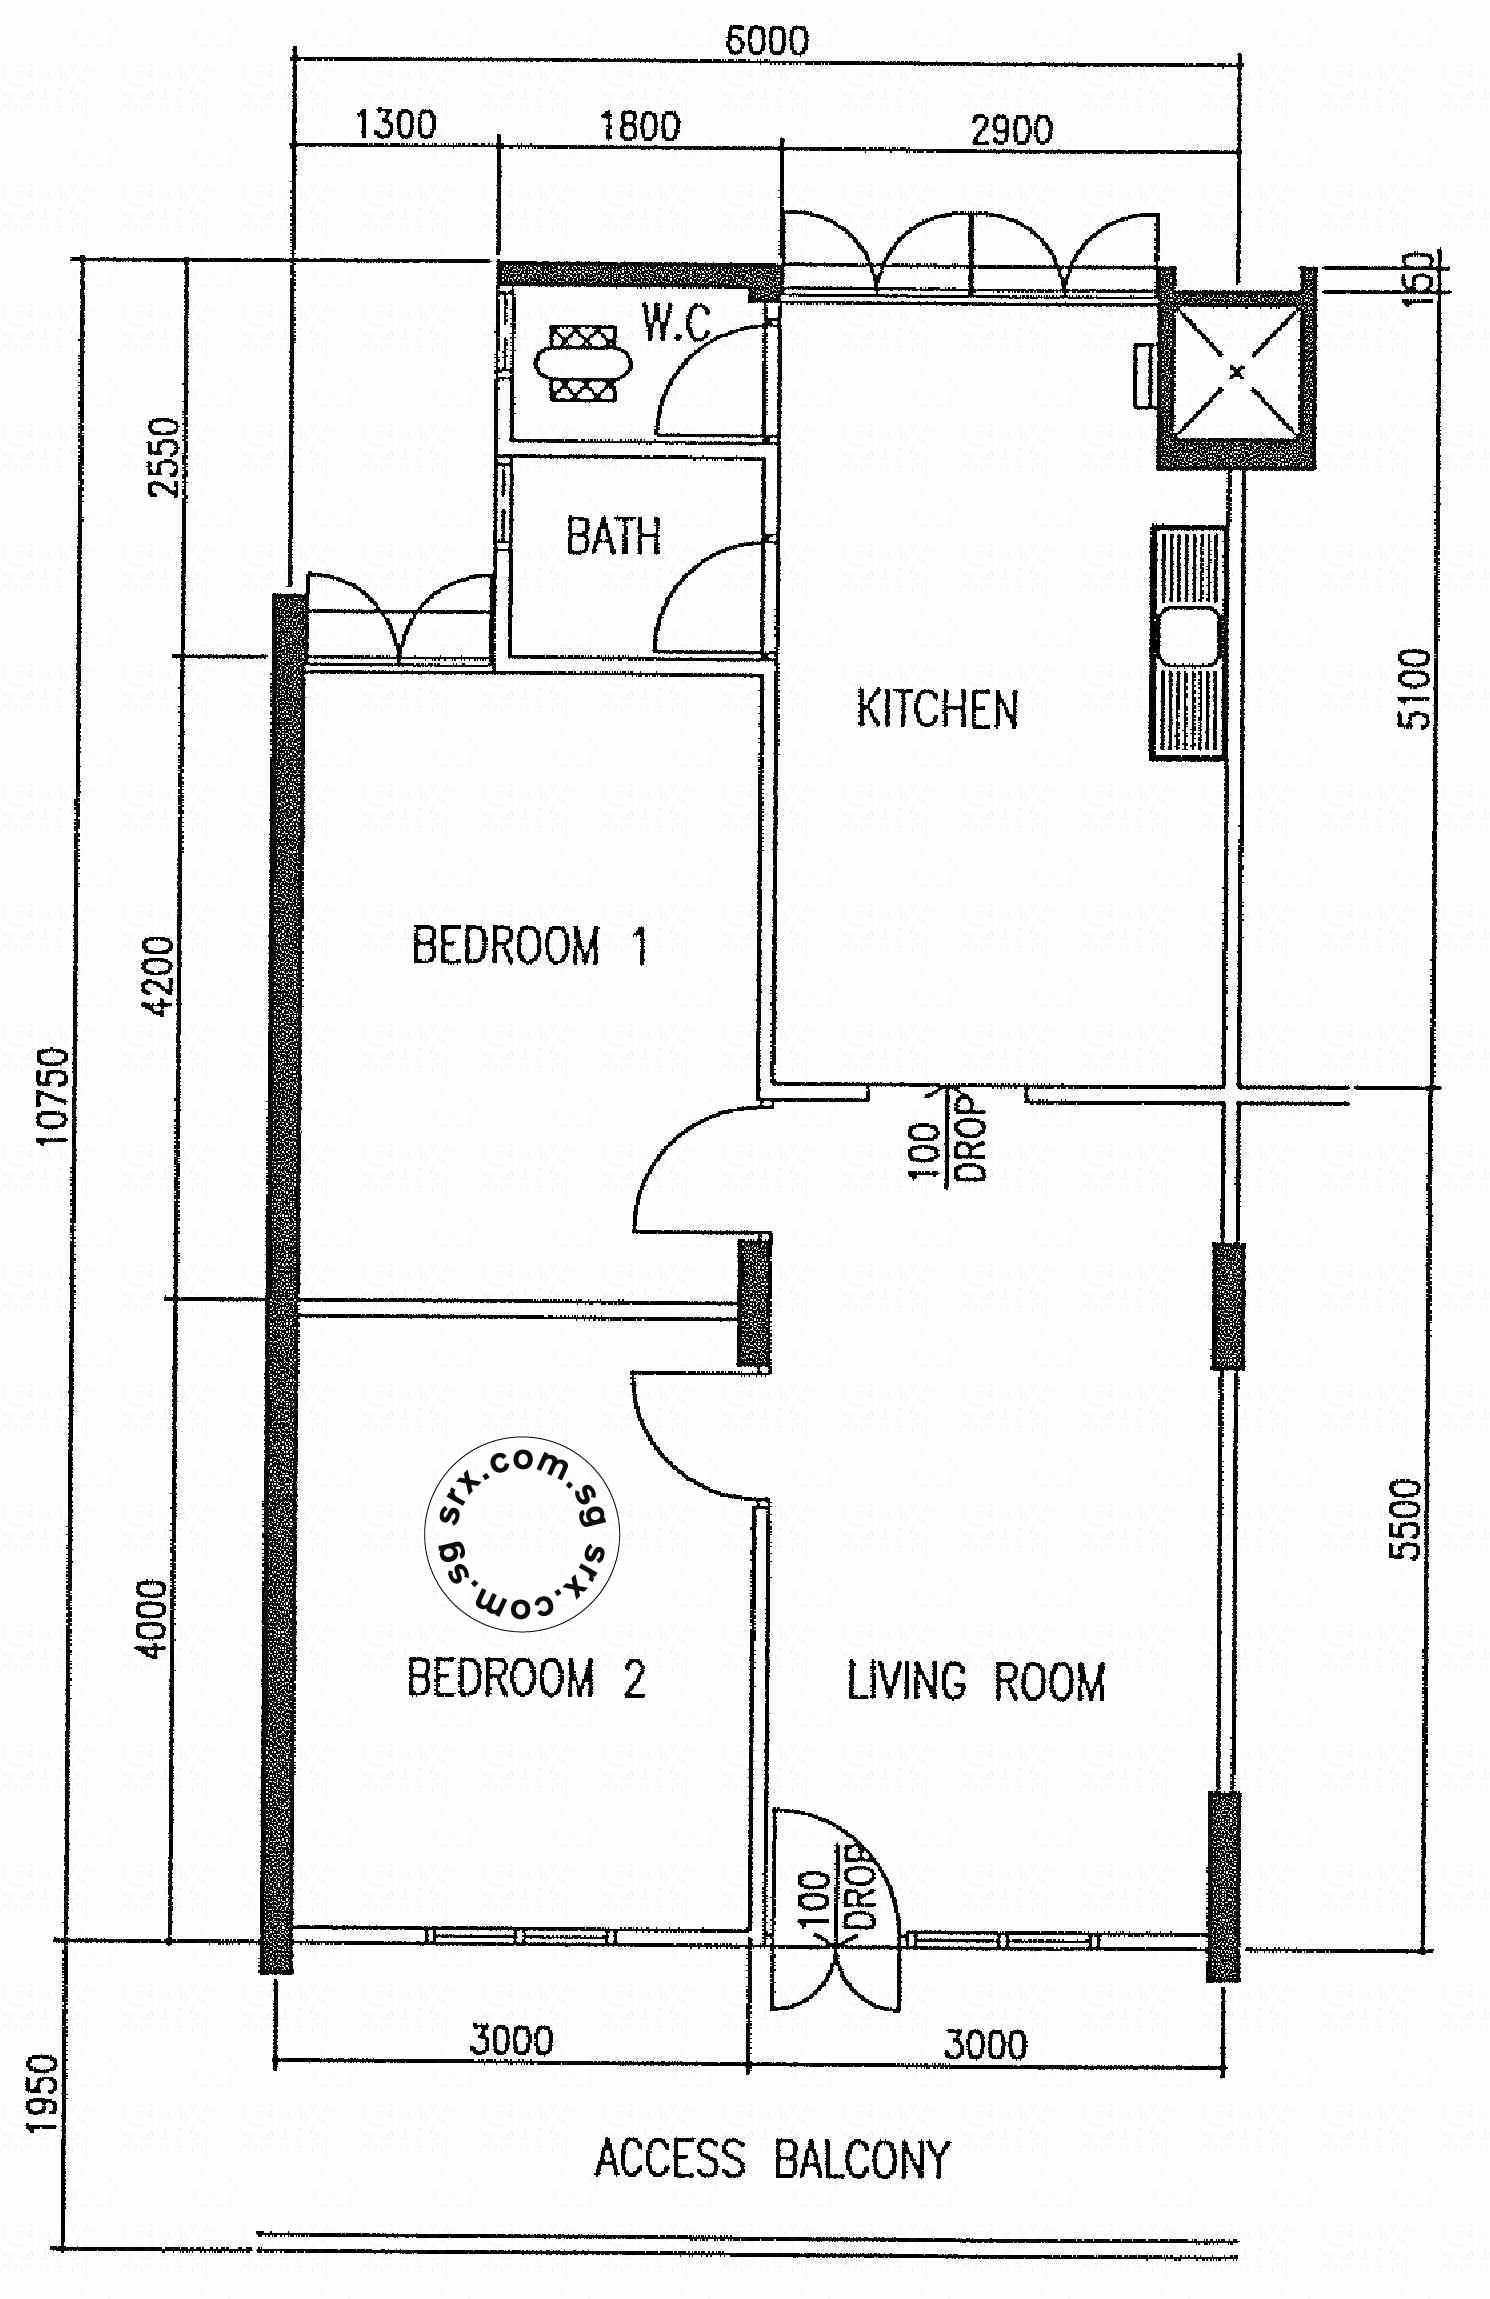room: (758, 1082, 1235, 1954), (764, 278, 1239, 1118), (275, 655, 768, 1320), (265, 1300, 759, 1954), (499, 271, 774, 667)
